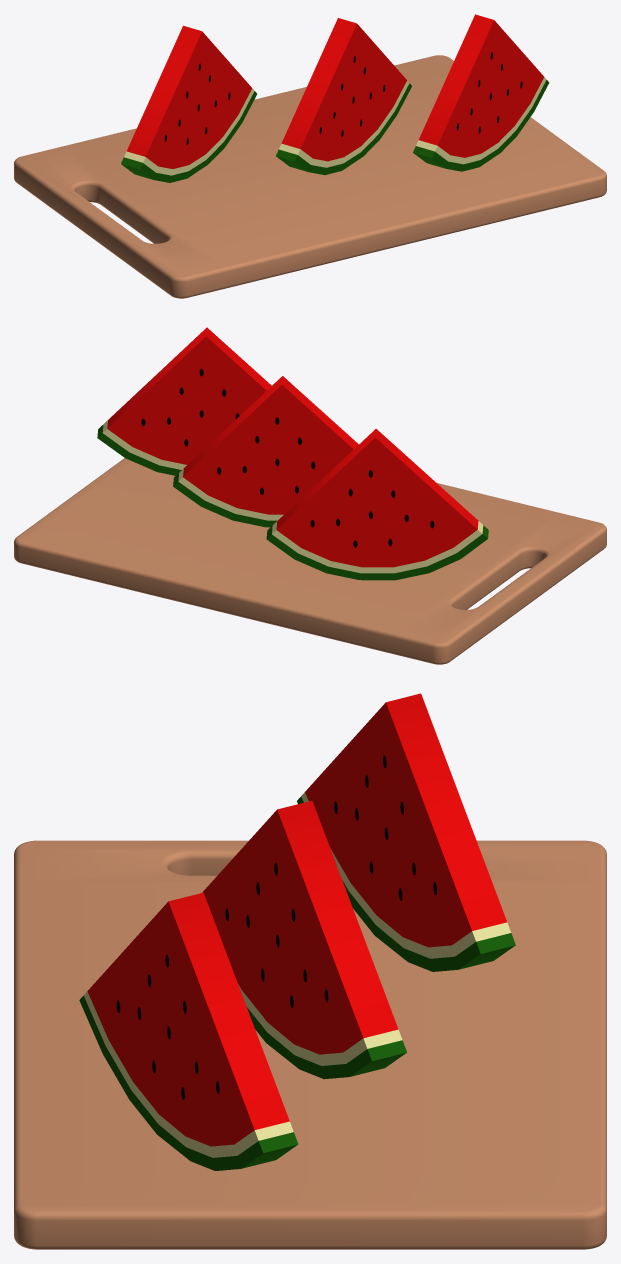
File: 3watermelon.fbx
The picture shows the model from 3 angles, top to bottom: view 1: azimuth 30°, elevation 25°; view 2: azimuth 150°, elevation 25°; view 3: azimuth 270°, elevation 25°; orthographic projection. The views are drawn at different scales.
Visible parts, largest first — view 1: cuttingBoard, watermelon1, watermelon2, watermelon3; view 2: cuttingBoard, watermelon1, watermelon2, watermelon3; view 3: cuttingBoard, watermelon3, watermelon1, watermelon2.
Boxes of the visible parts, box(x1,y1,x2,y2) form: cuttingBoard: box(14, 55, 606, 298); watermelon1: box(121, 25, 256, 182); watermelon2: box(276, 18, 411, 175); watermelon3: box(413, 14, 549, 171); cuttingBoard: box(14, 458, 606, 664); watermelon1: box(266, 429, 488, 580); watermelon2: box(173, 376, 358, 527); watermelon3: box(97, 327, 271, 475); cuttingBoard: box(14, 840, 606, 1249); watermelon3: box(79, 892, 298, 1170); watermelon1: box(297, 693, 515, 971); watermelon2: box(202, 801, 406, 1079).
Size of the model in its own units: 5 by 1.75 by 3.27.
